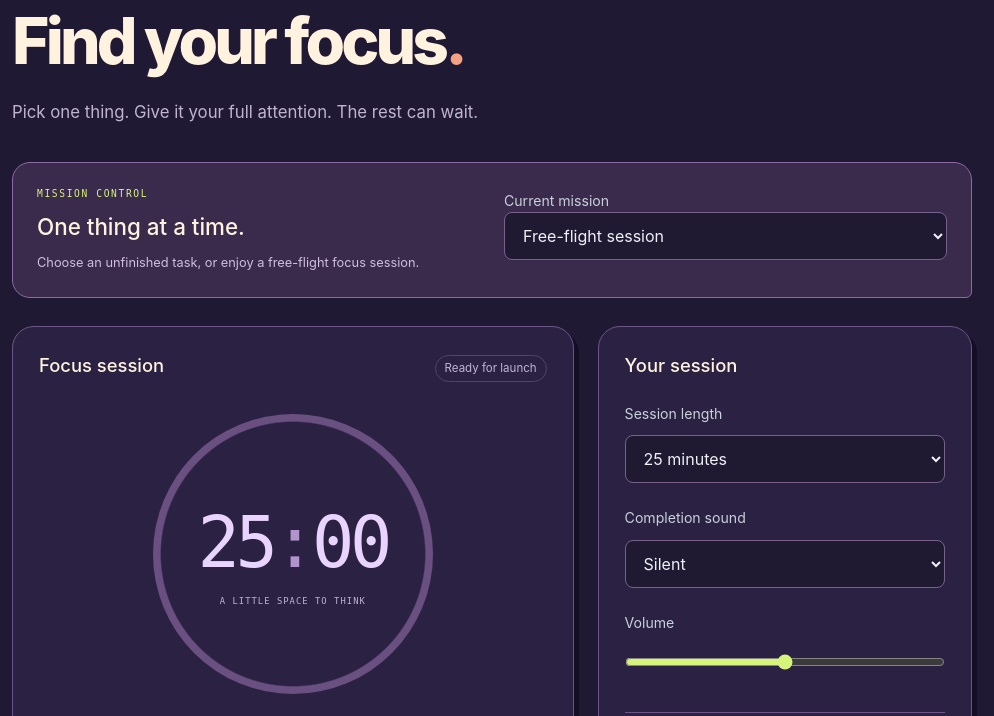
Test: timer completes once, pauses and resets to the selected duration
Select "1 minutes" in the dropdown labelled "Session length" at (785, 459), box [625, 435, 945, 483]
(page scrolled)
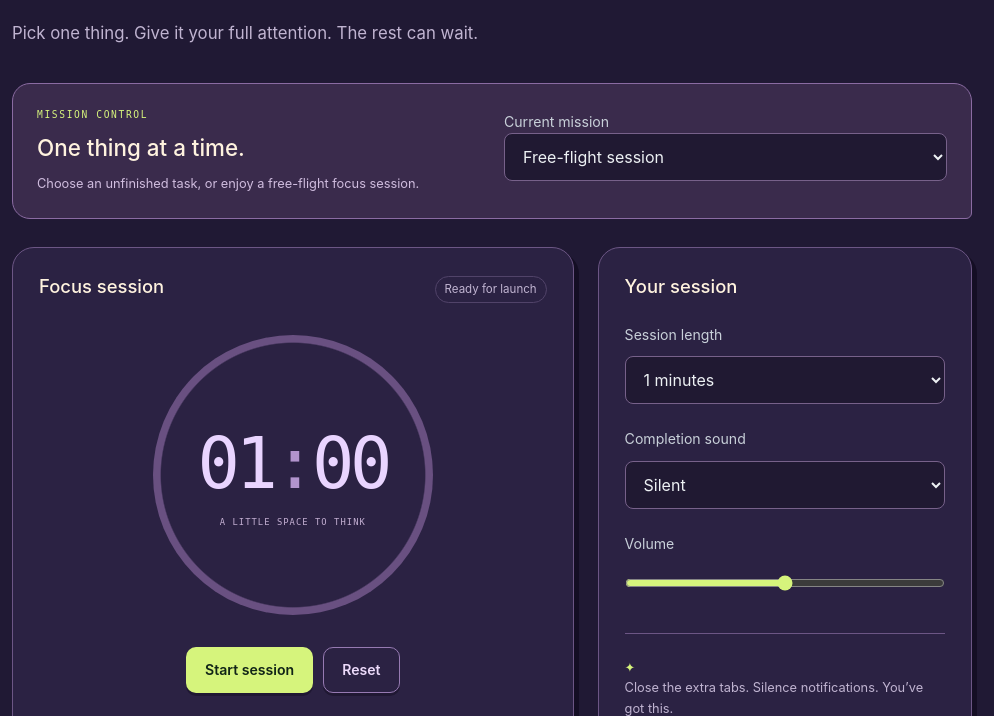
Click the button "Start session" at (250, 670), box [186, 646, 313, 693]
Wait 15000 ms
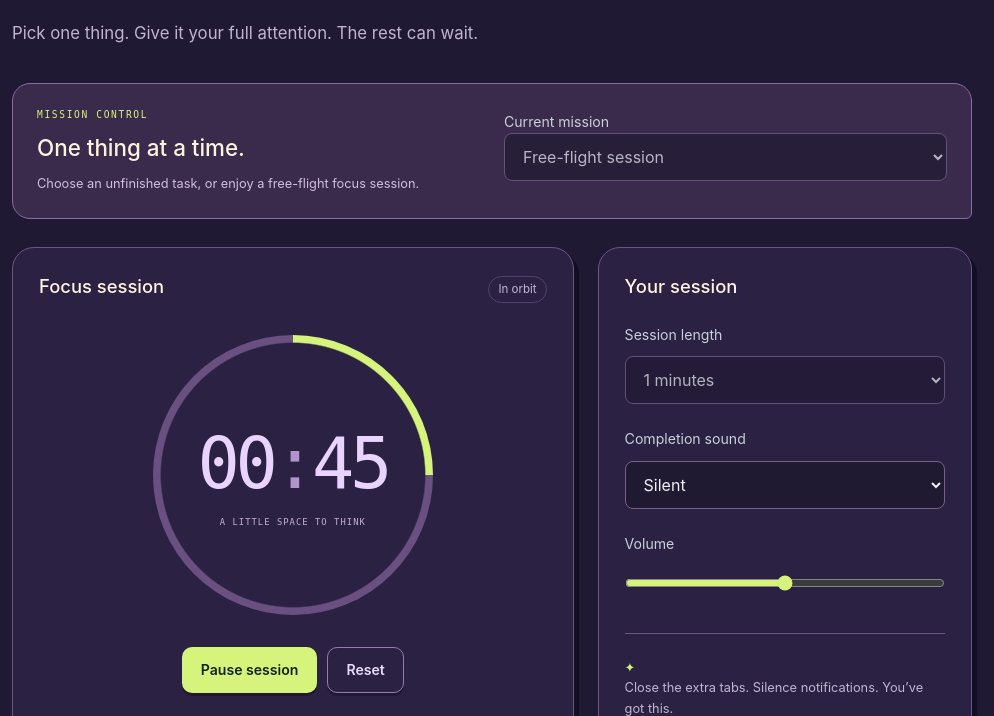
Expected: the element showing "00:45" is shown, [197, 422, 388, 507]
Click the button "Pause session" at (250, 670), box [182, 646, 318, 693]
Wait 10000 ms
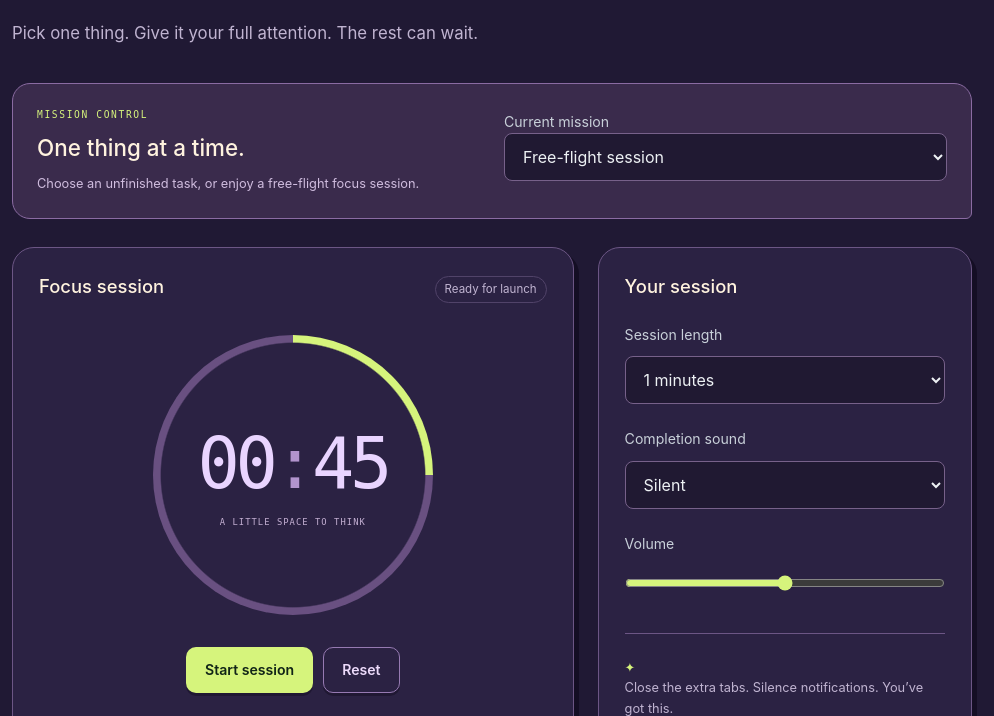
Expected: the element showing "00:45" is shown, [197, 422, 388, 507]
Click the button "Start session" at (250, 670), box [186, 646, 313, 693]
Wait 45000 ms
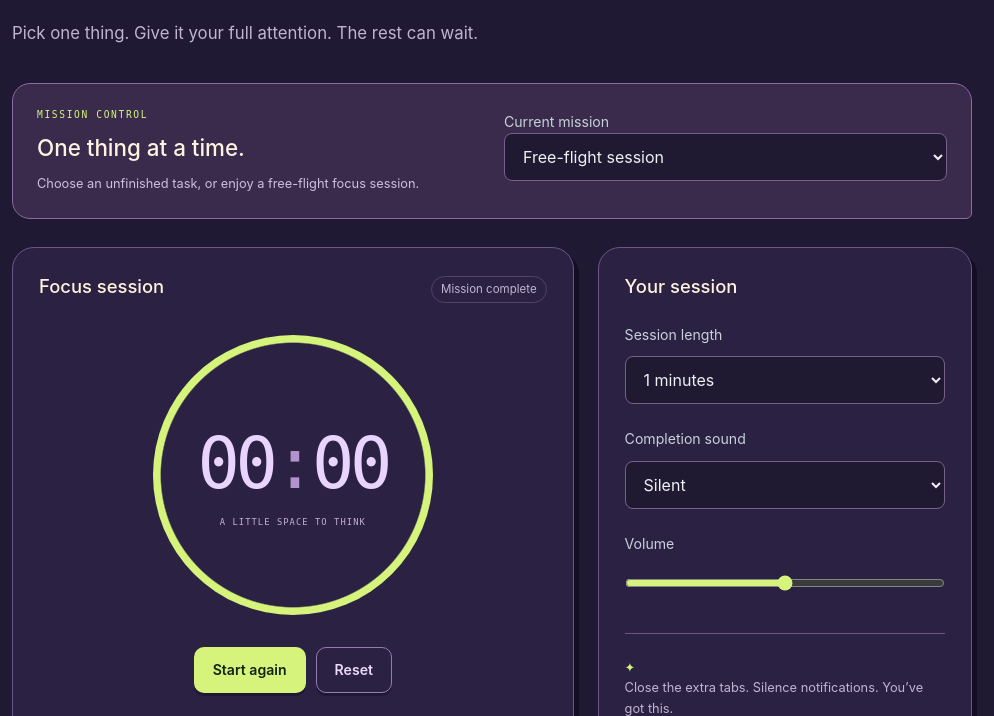
Expected: the element showing "00:00" is shown, [197, 422, 388, 507]
Expected: the text "Mission complete" is shown, [431, 276, 547, 302]
Click the button "Reset" at (354, 670), box [316, 646, 392, 693]
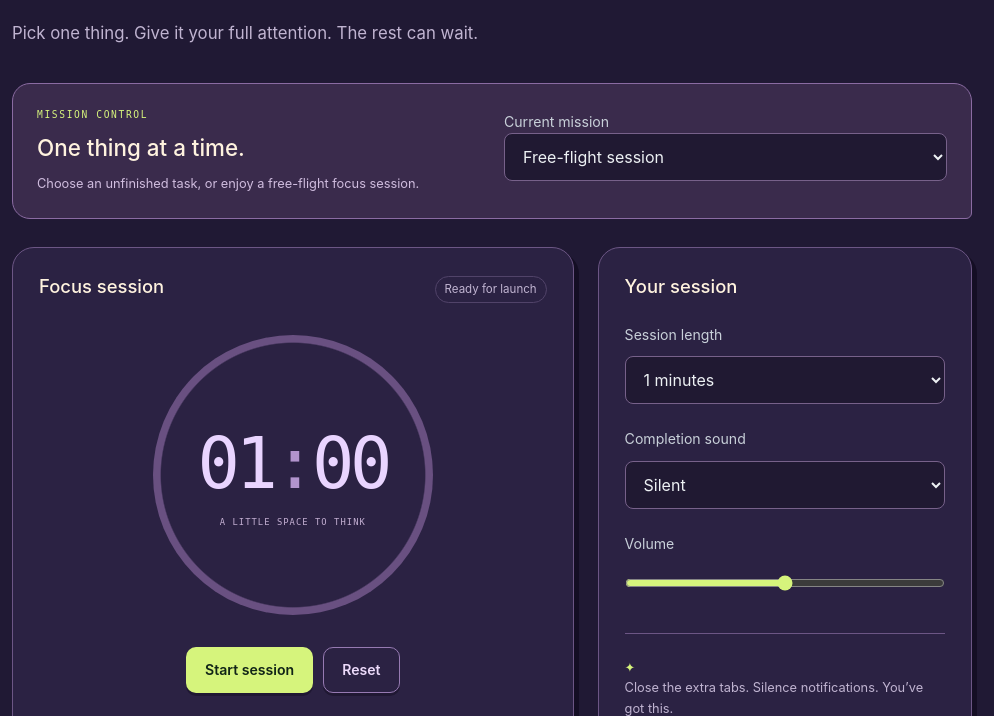
Expected: the element showing "01:00" is shown, [197, 422, 388, 507]
